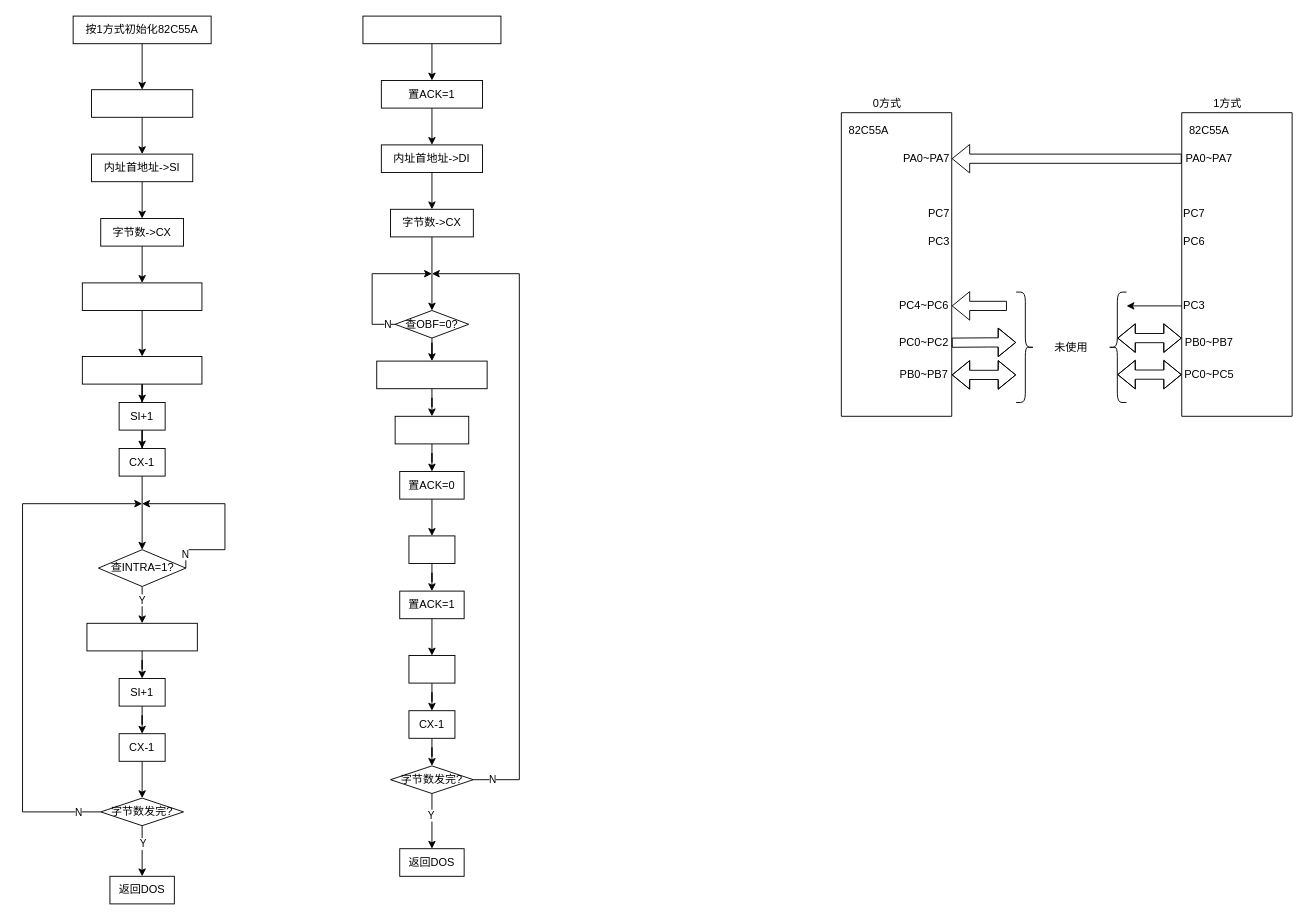
This 1308x920 diagram has some shape labels left out. The centre of each missing label's shape, as x and y in pixels:
DI+1: [431,669]
从PA发下一个数据: [141,636]
从PA发送第一个数就: [141,370]
从PA接收1个数据: [431,374]
从内存存取1个数据: [141,296]
存1个数据: [431,429]
延时: [431,549]
按0方式初始化82C55A: [431,29]
置发送中断允许: [142,103]
